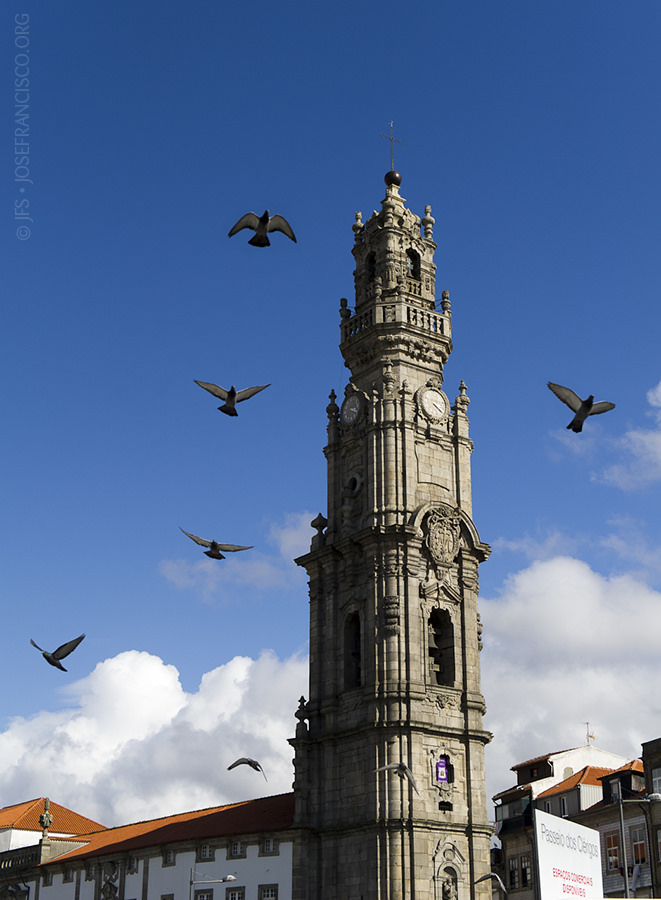clerigos: (286, 115, 498, 899)
